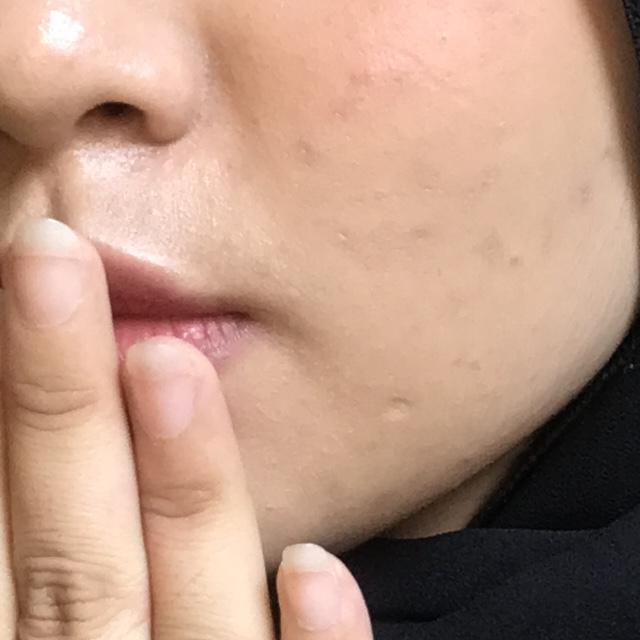ganteng: (0, 216, 570, 640)
